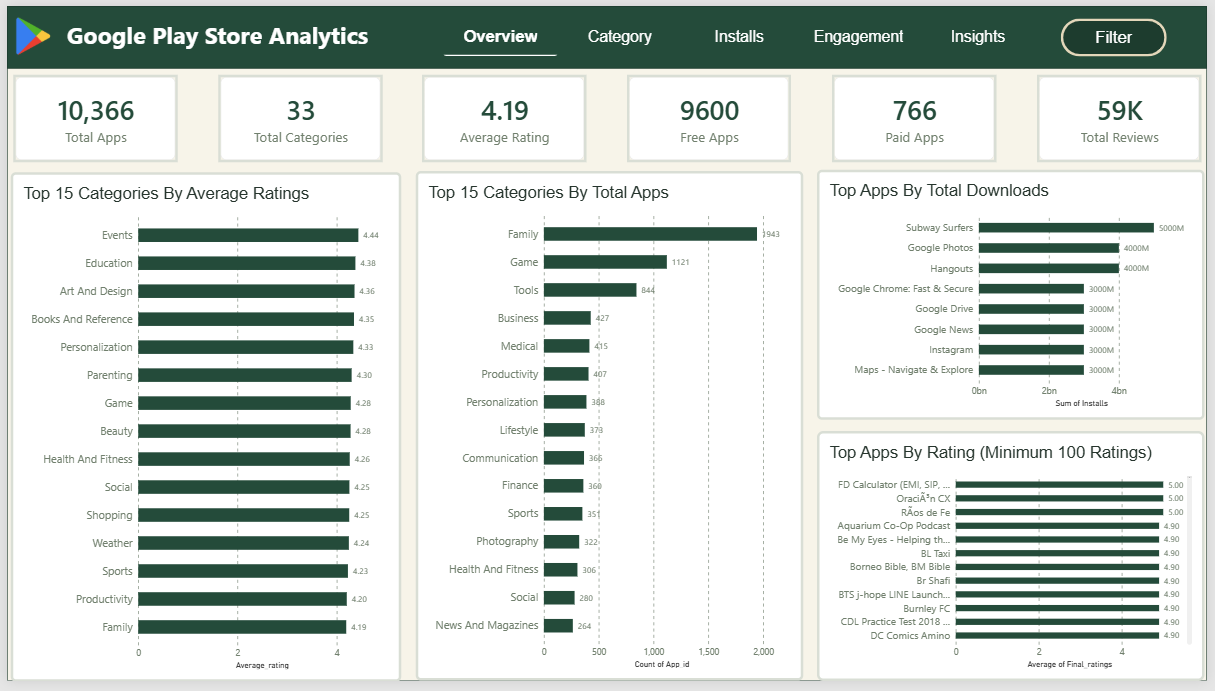

The dashboard page shown, as its layout file describes it:
{"tool":"powerbi","page":{"name":"Overview","canvas":[1920,1080],"ordinal":0},"visuals":[{"type":"shape","box":[0,0,1920,100],"z":0,"group":"g1"},{"type":"shape","box":[0,0,1920,1079.5],"z":0},{"type":"textbox","box":[95,20,525,60],"z":1000,"group":"g1"},{"type":"barChart","title":"Top 15 Categories By Average Ratings","fields":{"Category":["Apps.Category"],"Y":["measure_table.Average_rating"]},"box":[5,265,625,815],"z":1000},{"type":"actionButton","box":[1685.7,19.6,169.6,60.7],"z":1500,"group":"g1"},{"type":"pageNavigator","box":[697.5,20,950,60],"z":2000,"group":"g1"},{"type":"cardVisual","fields":{"Data":["measure_table.Average_rating"]},"box":[664.8,110,263,140],"z":2000},{"type":"image","box":[10.8,8.7,62.8,80.1],"z":2500,"group":"g1"},{"type":"cardVisual","fields":{"Data":["CountNonNull(Apps.App)"]},"box":[10,110,263,140],"z":3000},{"type":"cardVisual","fields":{"Data":["measure_table.Total Reviews"]},"box":[1647,110,263,140],"z":4000},{"type":"group","id":"g1","title":"Top Ribbon","box":[0,0,1920,100],"z":4500},{"type":"barChart","title":"Top 15 Categories By Total Apps","fields":{"Category":["Apps.Category"],"Y":["CountNonNull(Apps.App_id)"]},"box":[653.3,263.3,620,815],"z":5000},{"type":"cardVisual","fields":{"Data":["Count(Apps.Category)"]},"box":[337.4,110,263,140],"z":6000},{"type":"cardVisual","fields":{"Data":["measure_table.Free Apps"]},"box":[992.5,110,262.5,140],"z":7000},{"type":"cardVisual","fields":{"Data":["measure_table.Paid Apps"]},"box":[1319.6,110,263,140],"z":8000},{"type":"barChart","title":"Top Apps By Total Downloads","fields":{"Category":["Apps.App"],"Y":["Sum(Apps.Installs)"]},"box":[1295,262.5,620,400],"z":9000},{"type":"barChart","title":"Top Apps By Rating (Minimum 100 Ratings)","fields":{"Category":["Apps.App"],"Y":["Avg(Apps.Final_ratings)"]},"box":[1295,680,620,400],"z":10000}]}

Visuals, with their boxes in screenshot pixels (x1, y1, x2, y2), scaled from the page's 1920x1080 canvas onto the 1215x691 screenshot:
shape: rect(0, 0, 1214, 64)
shape: rect(0, 0, 1214, 690)
textbox: rect(60, 13, 392, 51)
"Top 15 Categories By Average Ratings" barChart: rect(3, 170, 399, 690)
actionButton: rect(1067, 13, 1174, 51)
pageNavigator: rect(441, 13, 1043, 51)
cardVisual - measure_table.Average_rating: rect(421, 70, 587, 160)
image: rect(7, 6, 47, 57)
cardVisual - CountNonNull(Apps.App): rect(6, 70, 173, 160)
cardVisual - measure_table.Total Reviews: rect(1042, 70, 1209, 160)
"Top Ribbon" group: rect(0, 0, 1214, 64)
"Top 15 Categories By Total Apps" barChart: rect(413, 168, 806, 690)
cardVisual - Count(Apps.Category): rect(214, 70, 380, 160)
cardVisual - measure_table.Free Apps: rect(628, 70, 794, 160)
cardVisual - measure_table.Paid Apps: rect(835, 70, 1001, 160)
"Top Apps By Total Downloads" barChart: rect(819, 168, 1212, 424)
"Top Apps By Rating (Minimum 100 Ratings)" barChart: rect(819, 435, 1212, 690)
